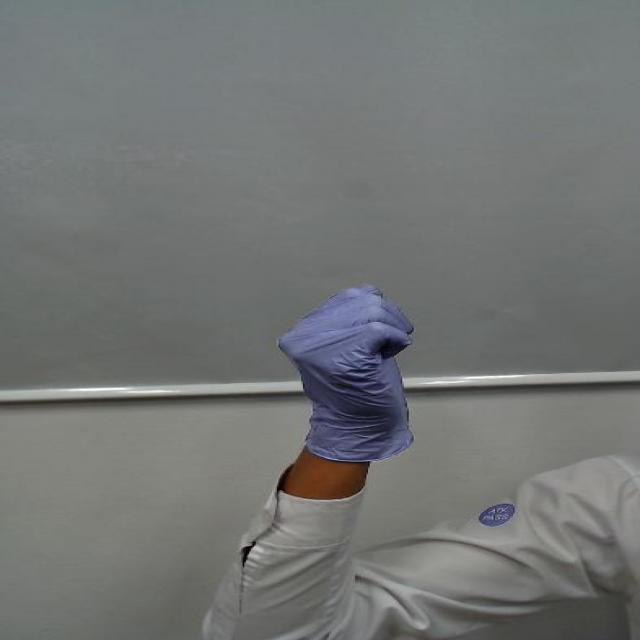Glove: (276, 293, 486, 471)
